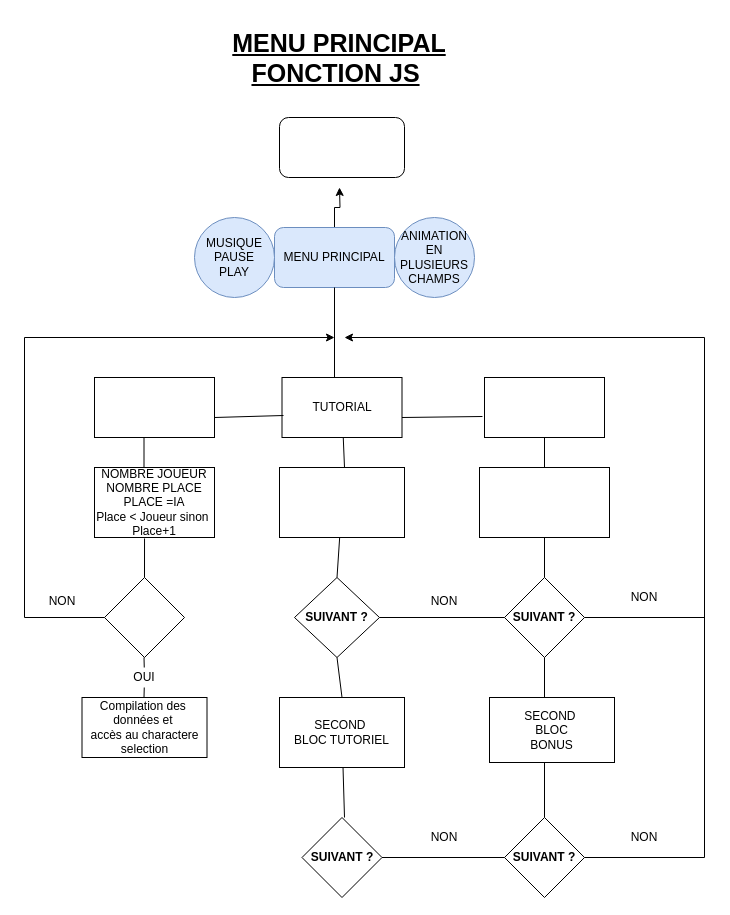
This 730x915 diagram has some shape labels left out. Here are the shapes that lost their labels. From the top down, the box of each, then its label:
(278, 116, 404, 178): TRANSITION MENU PRINCIPAL
(94, 376, 214, 438): START
(484, 376, 604, 438): BONUS
(278, 466, 404, 538): PREMIER BLOC TUTORIEL
(478, 466, 610, 538): PREMIER BLOC BONUS
(104, 576, 184, 658): START ?
